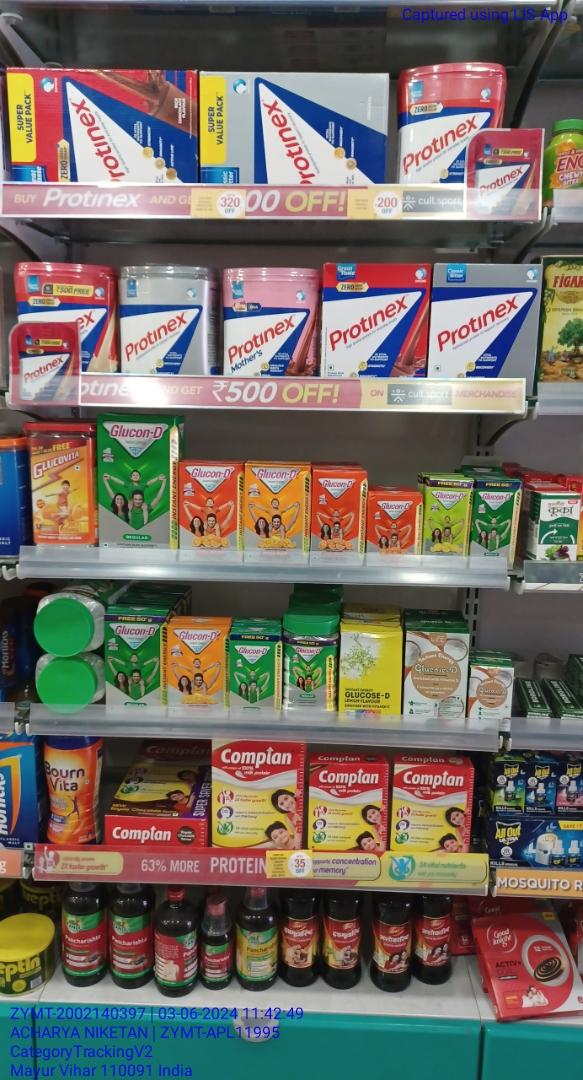COMPLAN_CHOCOLATE_200_GMS_PACK: (310, 758, 392, 852)
COMPLAN_KESAR_BADAM_200_GMS_PACK: (394, 762, 471, 852)
PROTINEX_ORIGINAL_400_G_JAR: (121, 267, 208, 377)
